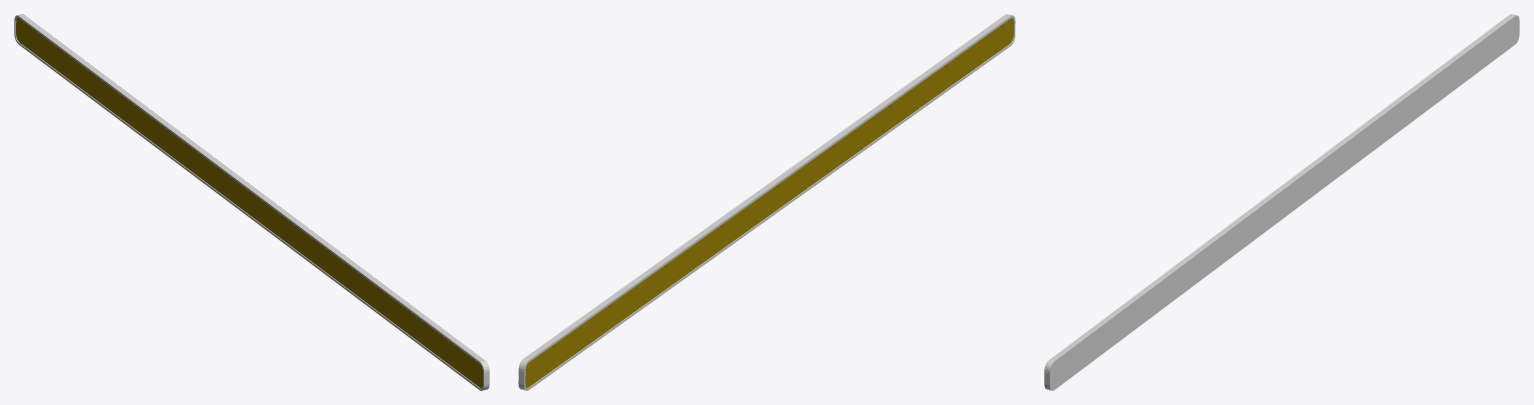
File: Set 1.fbx
3 renders of one model, left to right at view 1: azimuth 30°, elevation 25°; view 2: azimuth 150°, elevation 25°; view 3: azimuth 330°, elevation 25°, orthographic. The views are drawn at different scales.
Visible parts, largest first — view 1: Side; view 2: Side; view 3: Side.
Boxes of the visible parts, bbox=[...] form: Side: bbox=[14, 14, 489, 390]; Side: bbox=[518, 14, 1015, 390]; Side: bbox=[1044, 14, 1519, 390].
Bounding box in the file's own units: 2.85 × 18.09 × 418.
